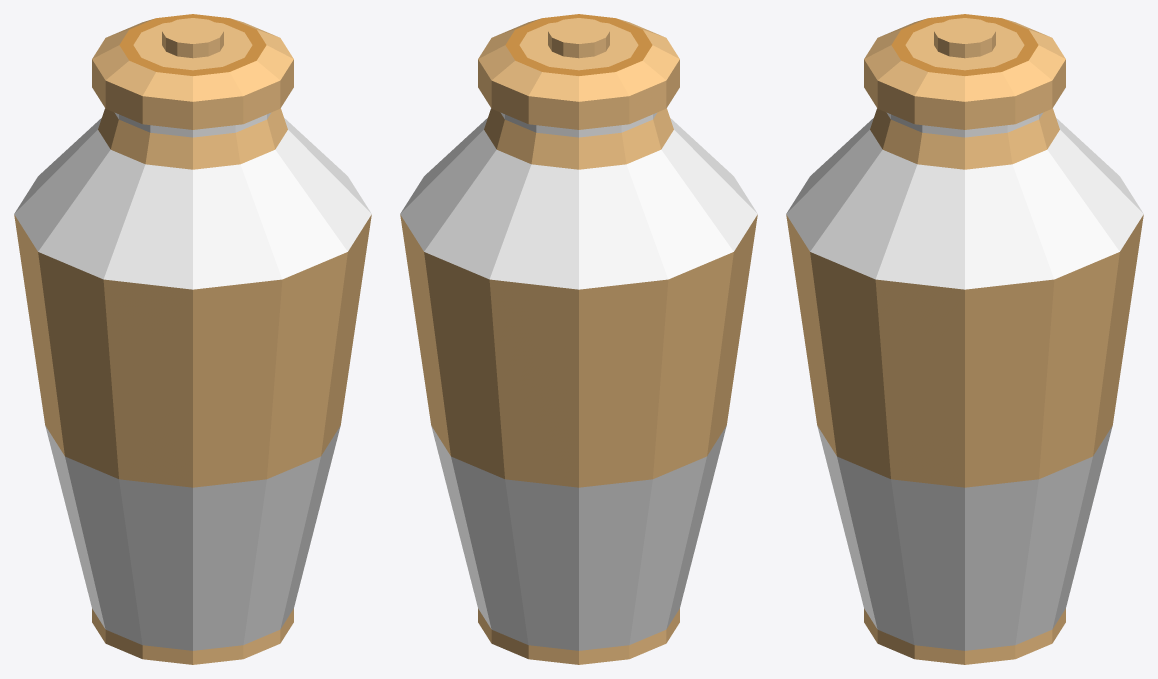
Rendered from vase.glb.
3 views of the same model, side by side, from view 1: azimuth 30°, elevation 25°; view 2: azimuth 150°, elevation 25°; view 3: azimuth 270°, elevation 25° (orthographic).
Parts seen in each view (by area): view 1: Node; view 2: Node; view 3: Node.
Part boxes in pixels (box(x1,y1,x2,y2)): Node: box(14, 14, 371, 664); Node: box(400, 14, 757, 664); Node: box(786, 14, 1143, 664).
Size of the model in its own units: 0.2303 by 0.42 by 0.2303.
